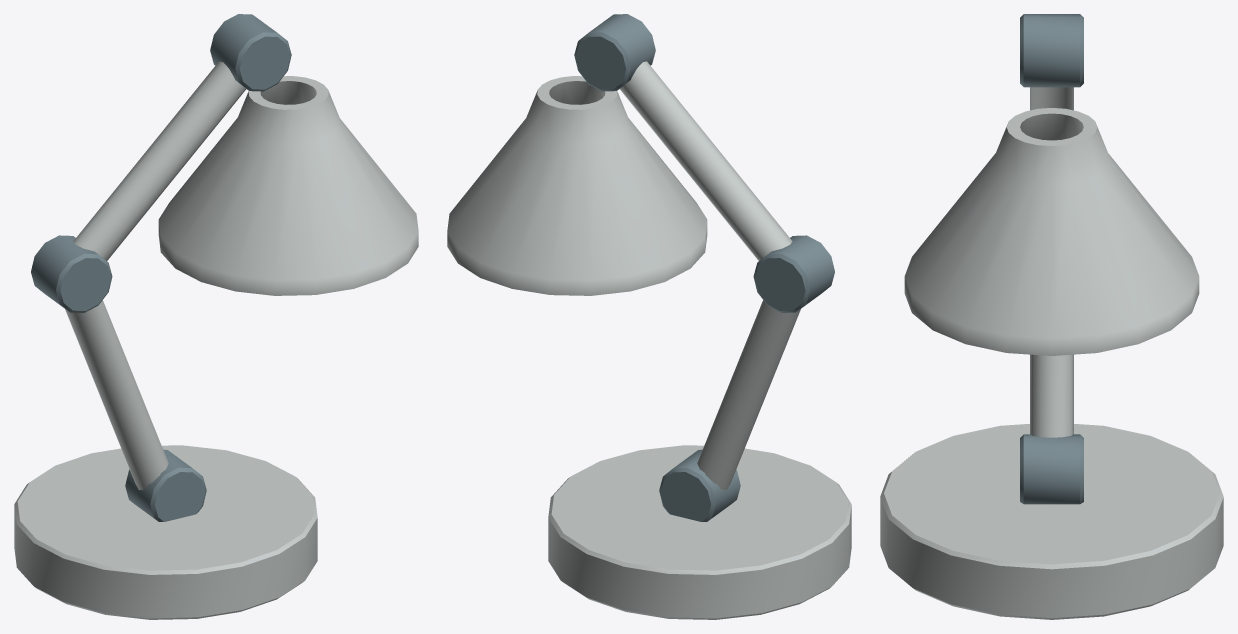
The model's file is desk-lamp.glb.
3 renders of one model, left to right at view 1: azimuth 30°, elevation 25°; view 2: azimuth 150°, elevation 25°; view 3: azimuth 270°, elevation 25°, orthographic. The views are drawn at different scales.
Parts seen in each view (by area): view 1: weighted_base, lamp_shade, upper_arm, lower_arm, hinge.001, hinge.002, hinge; view 2: weighted_base, lamp_shade, upper_arm, lower_arm, hinge.001, hinge.002, hinge; view 3: weighted_base, lamp_shade, hinge.002, hinge, lower_arm, upper_arm.
Part boxes in pixels (x1,y1,x2,y2): weighted_base: (14, 445, 317, 619); lamp_shade: (158, 76, 418, 295); upper_arm: (73, 61, 246, 260); lower_arm: (65, 300, 168, 489); hinge.001: (31, 235, 112, 312); hinge.002: (210, 14, 291, 91); hinge: (125, 449, 206, 521); weighted_base: (548, 445, 851, 619); lamp_shade: (447, 76, 707, 295); upper_arm: (619, 61, 792, 260); lower_arm: (697, 300, 800, 489); hinge.001: (753, 235, 834, 312); hinge.002: (574, 14, 655, 91); hinge: (659, 449, 740, 521); weighted_base: (880, 424, 1223, 619); lamp_shade: (904, 108, 1199, 355); hinge.002: (1020, 14, 1083, 87); hinge: (1020, 434, 1083, 504); lower_arm: (1030, 354, 1073, 437); upper_arm: (1030, 87, 1073, 110).
Bounding box in the file's own units: 0.39 × 0.52 × 0.28.
